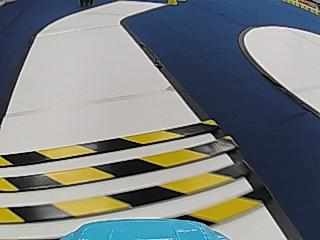bump: (1, 119, 257, 231)
